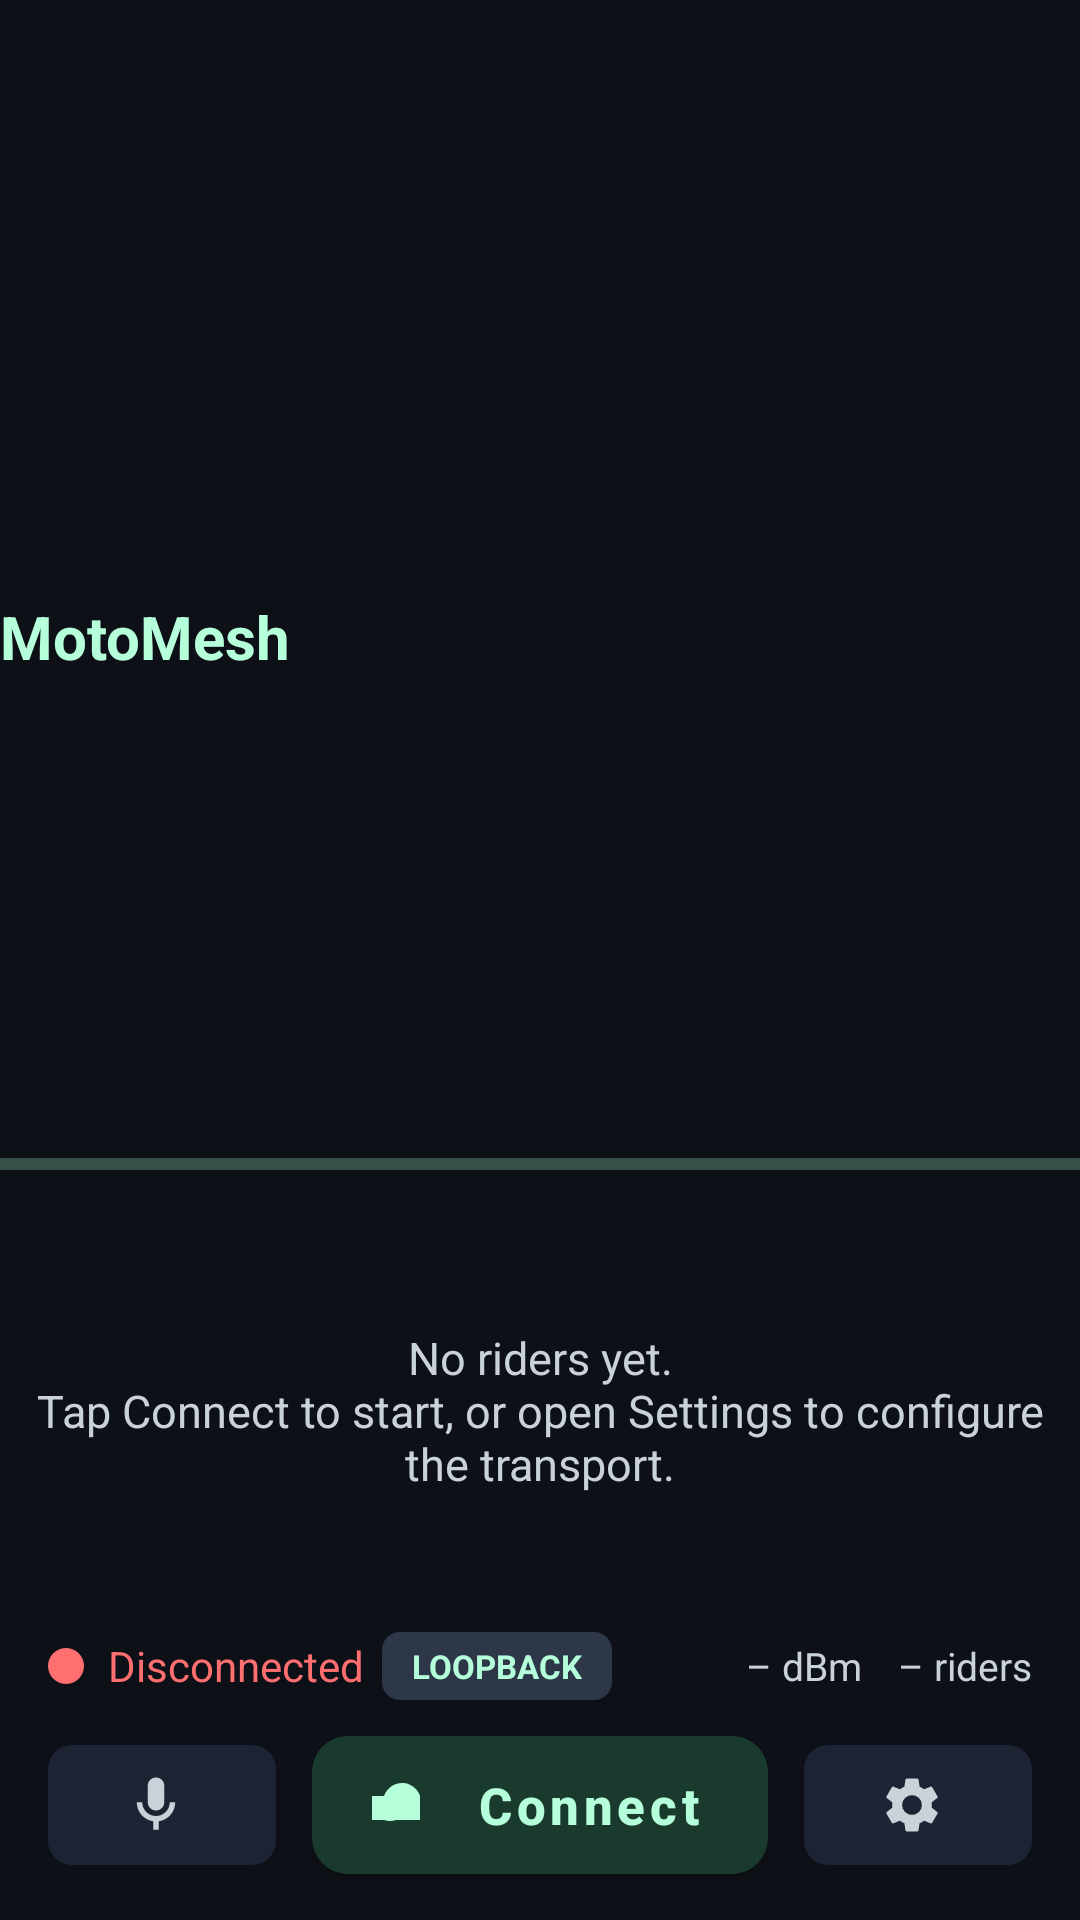

Named icons in this screenshot (1080x1920) and their bounding boxes, (x1, y1, x2, y2):
dot status: (48, 1648, 84, 1684)
